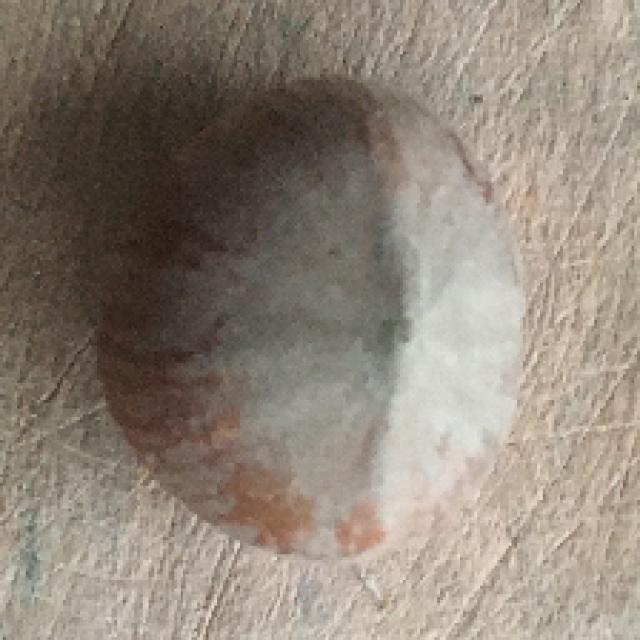qualityHazelnut: (90, 73, 536, 564)
